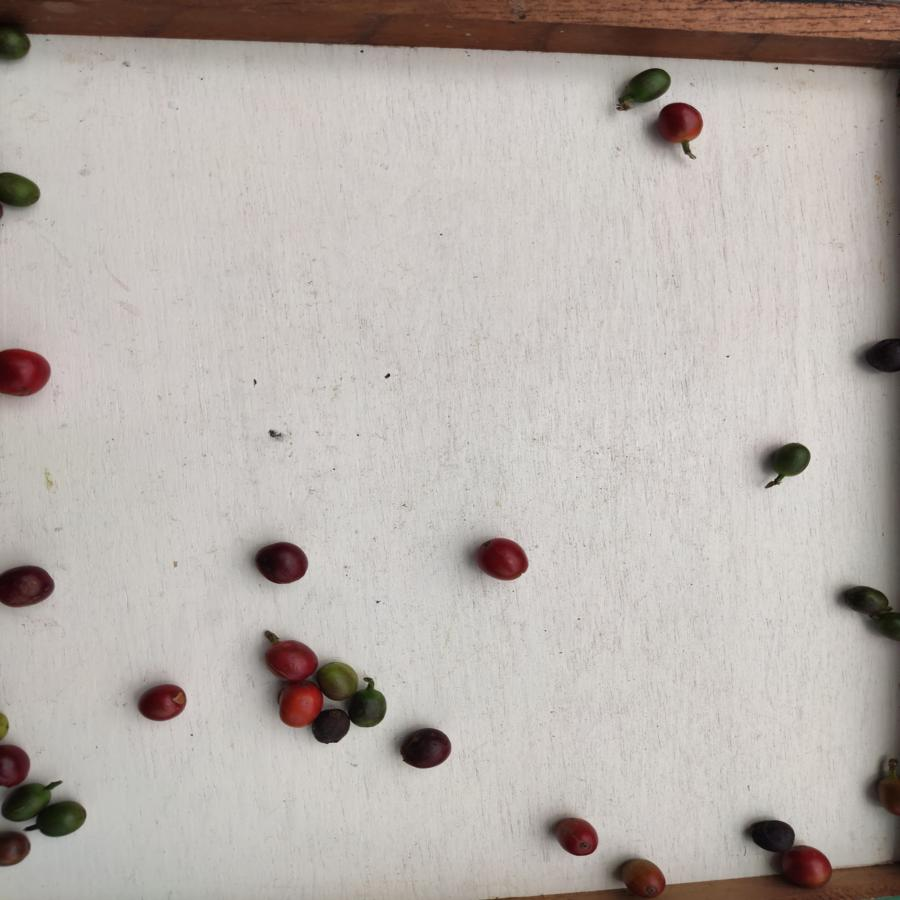Inmaduro: (37, 801, 87, 839), (3, 784, 51, 822), (768, 440, 813, 479), (625, 65, 671, 103), (1, 172, 44, 212), (349, 687, 388, 729), (842, 583, 892, 613), (1, 25, 35, 65), (872, 615, 900, 645)
Maduro: (1, 345, 52, 397), (475, 536, 529, 581), (266, 639, 318, 682), (783, 847, 835, 890), (136, 683, 187, 722), (657, 102, 704, 144), (554, 817, 599, 859), (276, 682, 315, 728)
Pinton: (619, 857, 668, 896), (317, 661, 355, 698), (875, 773, 900, 821)
Sobremaduro: (253, 541, 308, 588), (1, 565, 56, 609), (397, 728, 454, 769), (747, 818, 796, 850), (312, 708, 350, 747), (865, 337, 900, 376), (1, 744, 30, 786)
